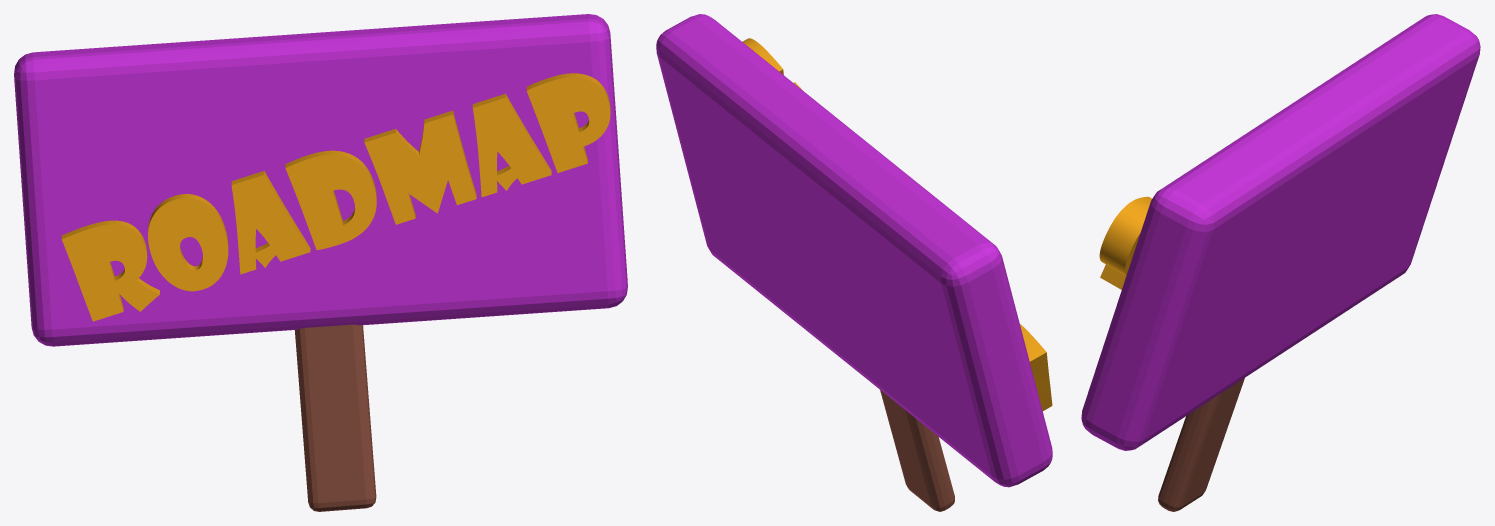
File: R_sign.glb
3 renders of one model, left to right at view 1: azimuth 30°, elevation 25°; view 2: azimuth 150°, elevation 25°; view 3: azimuth 270°, elevation 25°, orthographic. The views are drawn at different scales.
Parts seen in each view (by area): view 1: Sign.004, Text.005, Sign stick.004; view 2: Sign.004, Sign stick.004, Text.005; view 3: Sign.004, Sign stick.004, Text.005.
Part boxes in pixels (x1=…): Sign.004: x1=14, y1=14, x2=627, y2=346; Text.005: x1=61, y1=73, x2=610, y2=321; Sign stick.004: x1=294, y1=324, x2=376, y2=511; Sign.004: x1=656, y1=14, x2=1052, y2=487; Sign stick.004: x1=880, y1=390, x2=954, y2=511; Text.005: x1=742, y1=38, x2=1052, y2=410; Sign.004: x1=1081, y1=14, x2=1480, y2=450; Sign stick.004: x1=1158, y1=378, x2=1244, y2=511; Text.005: x1=1099, y1=196, x2=1151, y2=289.
Size of the model in its own units: 1.93 by 1.65 by 1.38.
